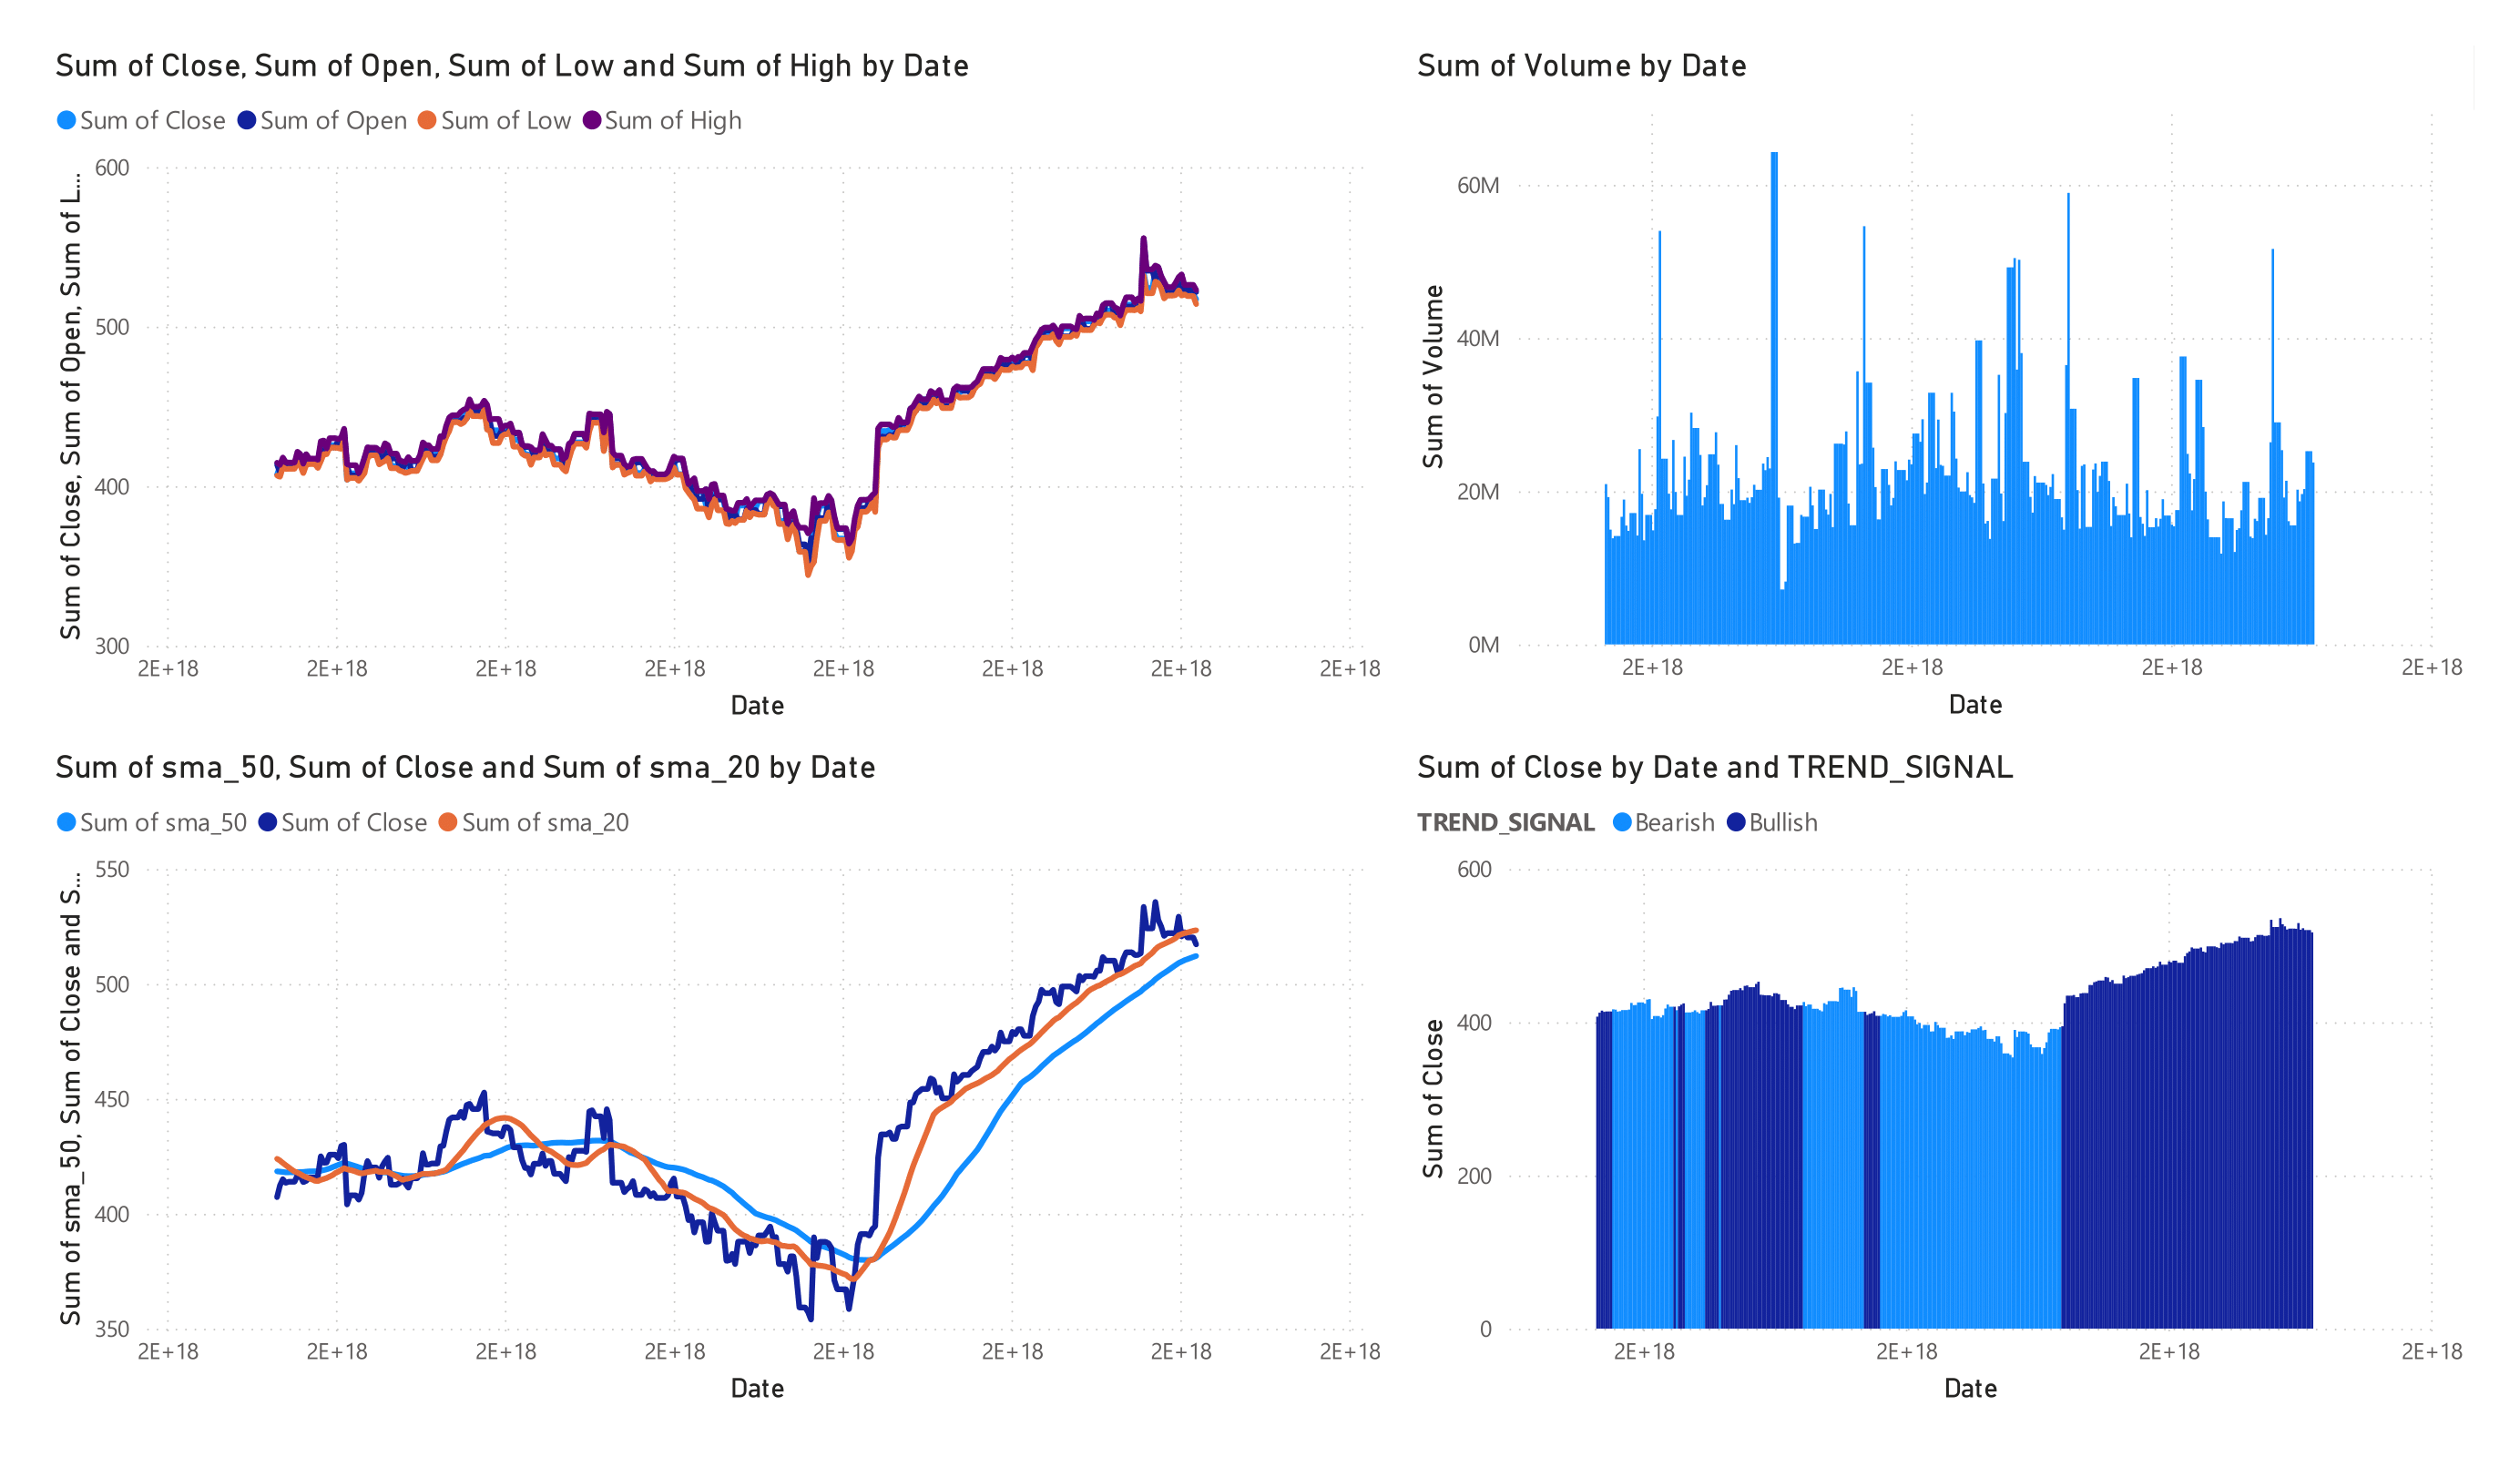

This screenshot's page, from the dashboard's own definition file:
{"tool":"powerbi","page":{"name":"Page 1","canvas":[1280,720],"ordinal":0},"visuals":[{"type":"lineChart","fields":{"Category":["STOCK_DATA_MSFT_TEST_FULL.Date"],"Y":["Sum(STOCK_DATA_MSFT_TEST_FULL.Close)","Sum(STOCK_DATA_MSFT_TEST_FULL.Open)","Sum(STOCK_DATA_MSFT_TEST_FULL.Low)","Sum(STOCK_DATA_MSFT_TEST_FULL.High)"]},"box":[0,0,708,360],"z":0},{"type":"lineChart","fields":{"Category":["V_MOVING_AVERAGES.Date"],"Y":["Sum(V_MOVING_AVERAGES.sma_50)","Sum(V_MOVING_AVERAGES.Close)","Sum(V_MOVING_AVERAGES.sma_20)"]},"box":[0,370,708,350],"z":1000},{"type":"columnChart","fields":{"Y":["Sum(STOCK_DATA_MSFT_TEST_FULL.Volume)"],"Category":["STOCK_DATA_MSFT_TEST_FULL.Date"]},"box":[718,0,562,360],"z":1001},{"type":"columnChart","fields":{"Category":["V_TRADING_SIGNALS.Date"],"Y":["Sum(V_TRADING_SIGNALS.Close)"],"Series":["V_TRADING_SIGNALS.TREND_SIGNAL"]},"box":[718,370,562,350],"z":1002}]}

Visuals, with their boxes on the page's 1280x720 design canvas (x1, y1, x2, y2). These are canvas units, not pixel positions in the 2520x1457 screenshot, which may show the page scaled, cropped or inside an application window:
lineChart - STOCK_DATA_MSFT_TEST_FULL.Date x Sum(STOCK_DATA_MSFT_TEST_FULL.Close): (0,0,708,360)
lineChart - V_MOVING_AVERAGES.Date x Sum(V_MOVING_AVERAGES.sma_50): (0,370,708,720)
columnChart - Sum(STOCK_DATA_MSFT_TEST_FULL.Volume) x STOCK_DATA_MSFT_TEST_FULL.Date: (718,0,1280,360)
columnChart - V_TRADING_SIGNALS.Date x Sum(V_TRADING_SIGNALS.Close): (718,370,1280,720)
